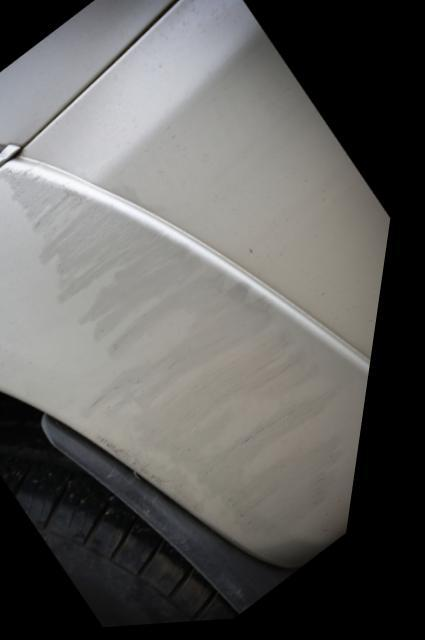scratch: (2, 166, 361, 553)
